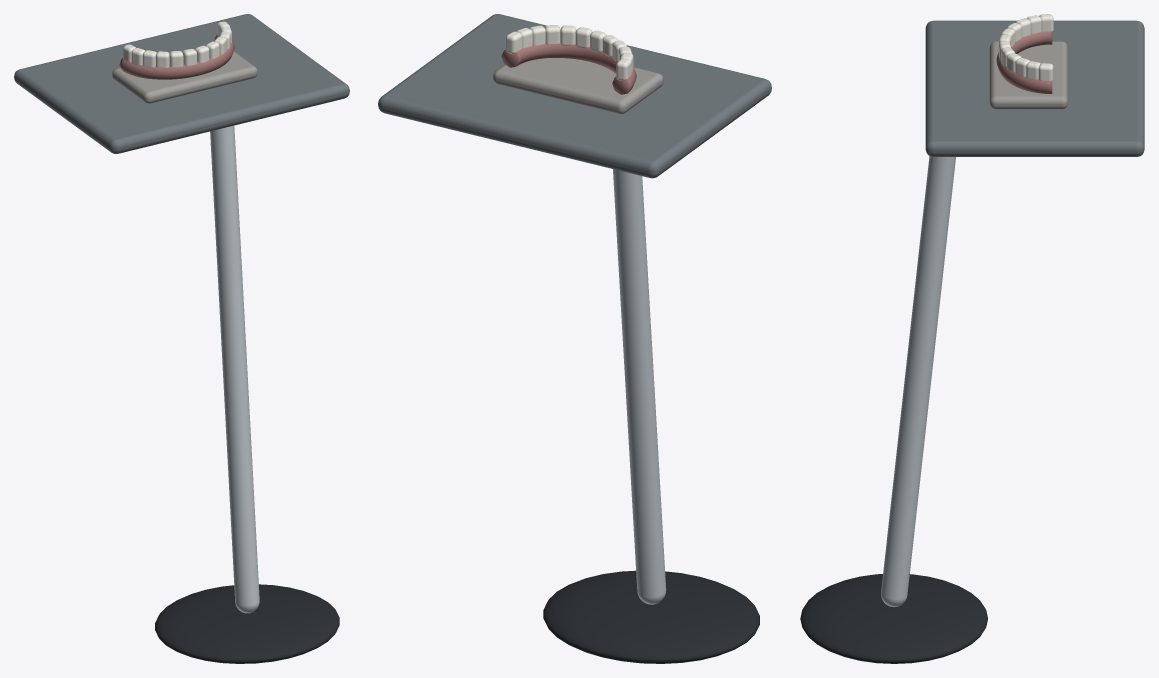
Rendered from workstation.glb.
3 views of the same model, side by side, from view 1: azimuth 30°, elevation 25°; view 2: azimuth 150°, elevation 25°; view 3: azimuth 270°, elevation 25° (orthographic). The views are drawn at different scales.
Visible parts, largest first — view 1: support (×2), worktop, typodontBase, typodontGumArch; view 2: support (×2), worktop, typodontBase, typodontGumArch; view 3: support (×2), worktop, typodontBase, typodontGumArch.
Part boxes in pixels (x1,y1,x2,y2): support (×2): (155, 125, 339, 663); worktop: (14, 14, 349, 153); typodontBase: (112, 51, 257, 103); typodontGumArch: (119, 35, 234, 79); support (×2): (543, 169, 759, 663); worktop: (378, 14, 771, 178); typodontBase: (493, 58, 663, 114); typodontGumArch: (501, 43, 636, 94); support (×2): (800, 156, 987, 663); worktop: (925, 20, 1144, 156); typodontBase: (989, 41, 1067, 109); typodontGumArch: (996, 31, 1052, 93).
Bounding box in the file's own units: 0.38 × 0.836 × 0.44.
